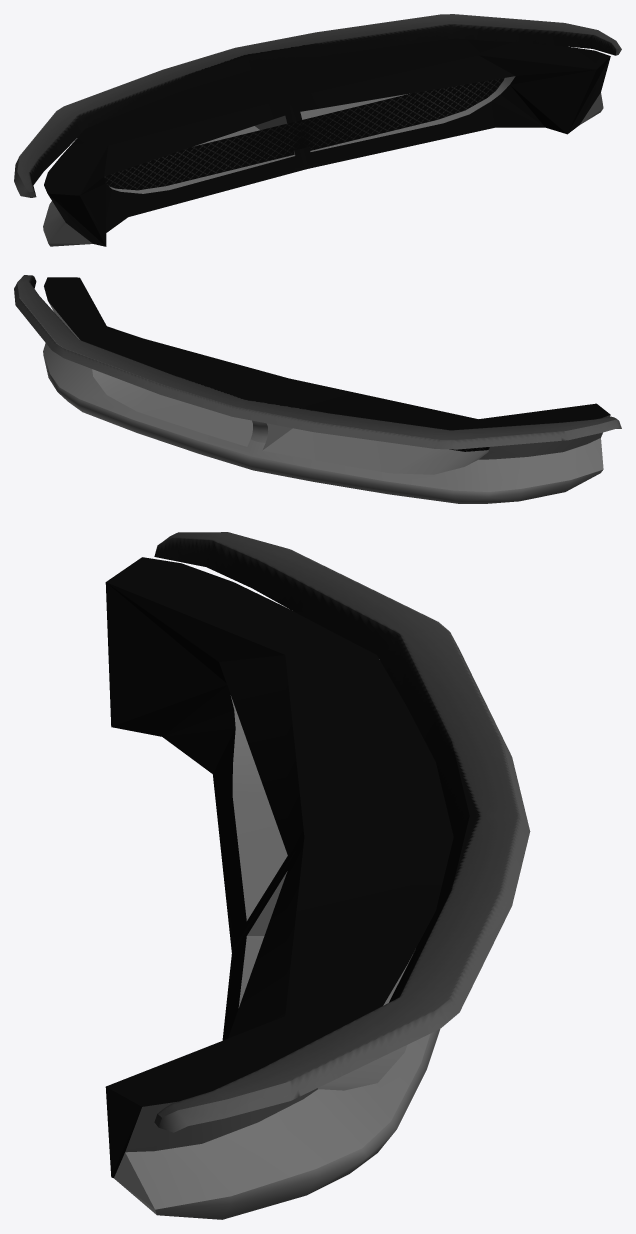
The model's file is Muscle_1_Bumper_Front_2.fbx.
3 views of the same model, one above another, from view 1: azimuth 30°, elevation 25°; view 2: azimuth 150°, elevation 25°; view 3: azimuth 270°, elevation 25° (orthographic). The views are drawn at different scales.
Parts seen in each view (by area): view 1: Muscle_1_Bumper_Front_2; view 2: Muscle_1_Bumper_Front_2; view 3: Muscle_1_Bumper_Front_2.
Part boxes in pixels (box(x1,y1,x2,y2)): Muscle_1_Bumper_Front_2: box(14, 14, 621, 246); Muscle_1_Bumper_Front_2: box(14, 275, 621, 503); Muscle_1_Bumper_Front_2: box(105, 532, 530, 1219).
Bounding box in the file's own units: 152 × 18.66 × 46.48.
